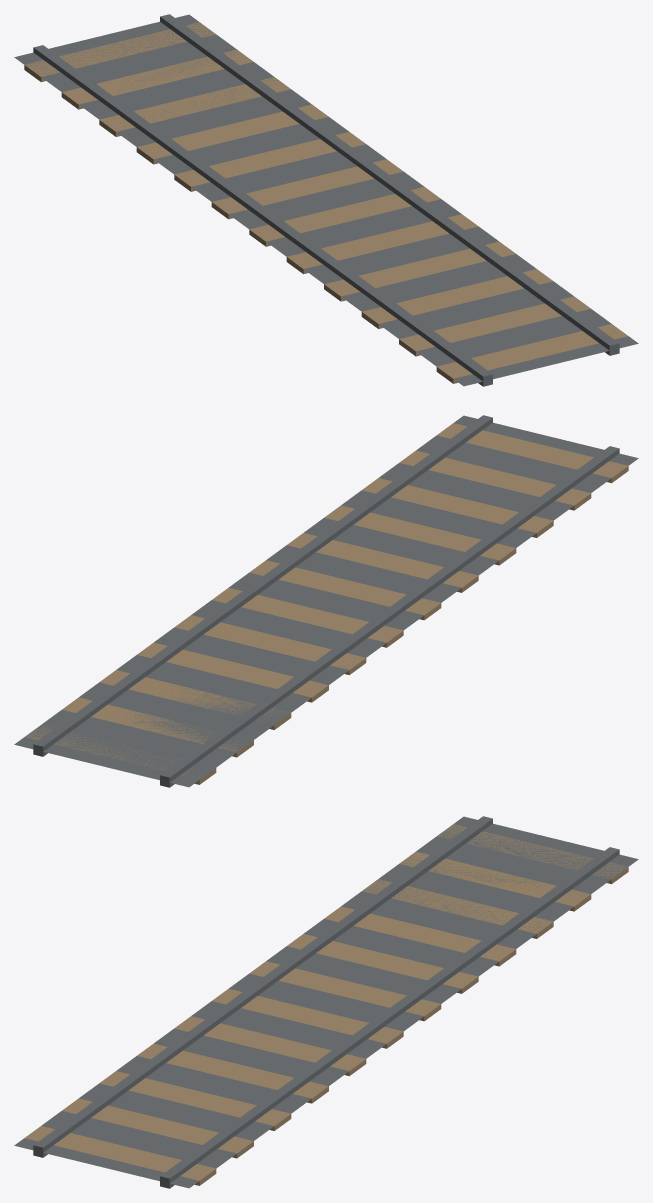
File: LightWoodMechLargeTrainTrack1.fbx
3 views of the same model, one above another, from view 1: azimuth 30°, elevation 25°; view 2: azimuth 150°, elevation 25°; view 3: azimuth 330°, elevation 25° (orthographic).
Visible parts, largest first — view 1: LightWoodMechLargeTrainTrack1, COLSurface; view 2: LightWoodMechLargeTrainTrack1, COLSurface; view 3: LightWoodMechLargeTrainTrack1, COLSurface.
Part boxes in pixels (left/top/right/bottom): LightWoodMechLargeTrainTrack1: left=24, top=14, right=628, bottom=386; COLSurface: left=14, top=14, right=638, bottom=386; LightWoodMechLargeTrainTrack1: left=25, top=415, right=628, bottom=787; COLSurface: left=14, top=415, right=638, bottom=787; LightWoodMechLargeTrainTrack1: left=24, top=816, right=628, bottom=1188; COLSurface: left=14, top=816, right=638, bottom=1188.
Size of the model in its own units: 180 by 10 by 800.
